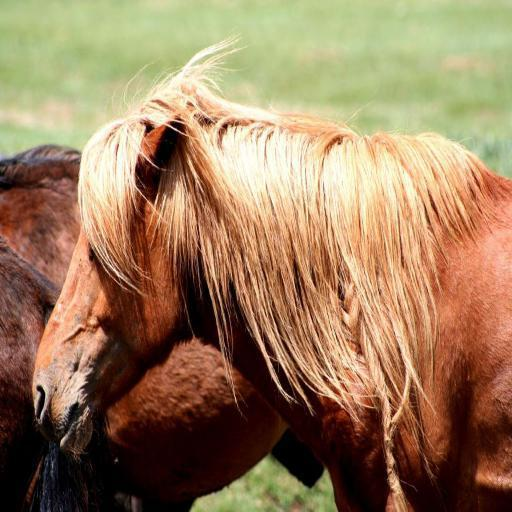horse: (31, 25, 512, 510), (0, 140, 325, 512), (0, 238, 110, 512)
